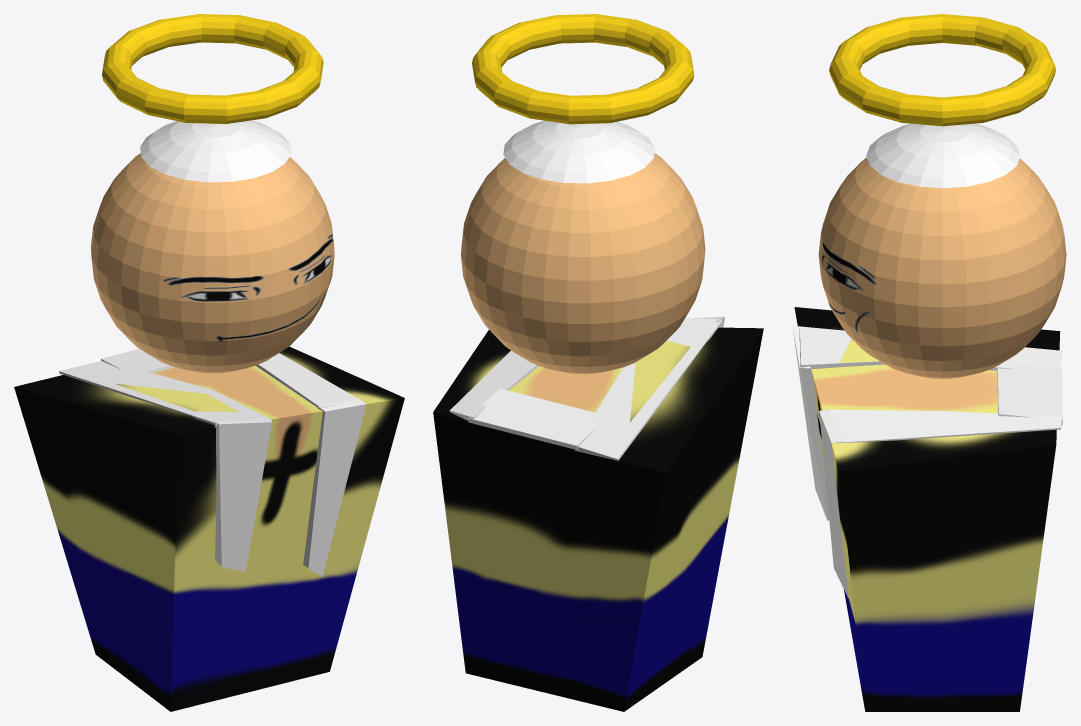
Rendered from papiez.fbx.
The picture shows the model from 3 angles, left to right: view 1: azimuth 30°, elevation 25°; view 2: azimuth 150°, elevation 25°; view 3: azimuth 270°, elevation 25°; orthographic projection.
Parts seen in each view (by area): view 1: Cube; view 2: Cube; view 3: Cube.
Part boxes in pixels (x1,y1,x2,y2): Cube: [14, 14, 404, 711]; Cube: [433, 14, 763, 711]; Cube: [792, 14, 1066, 711].
Bounding box in the file's own units: 134 × 276 × 111.
